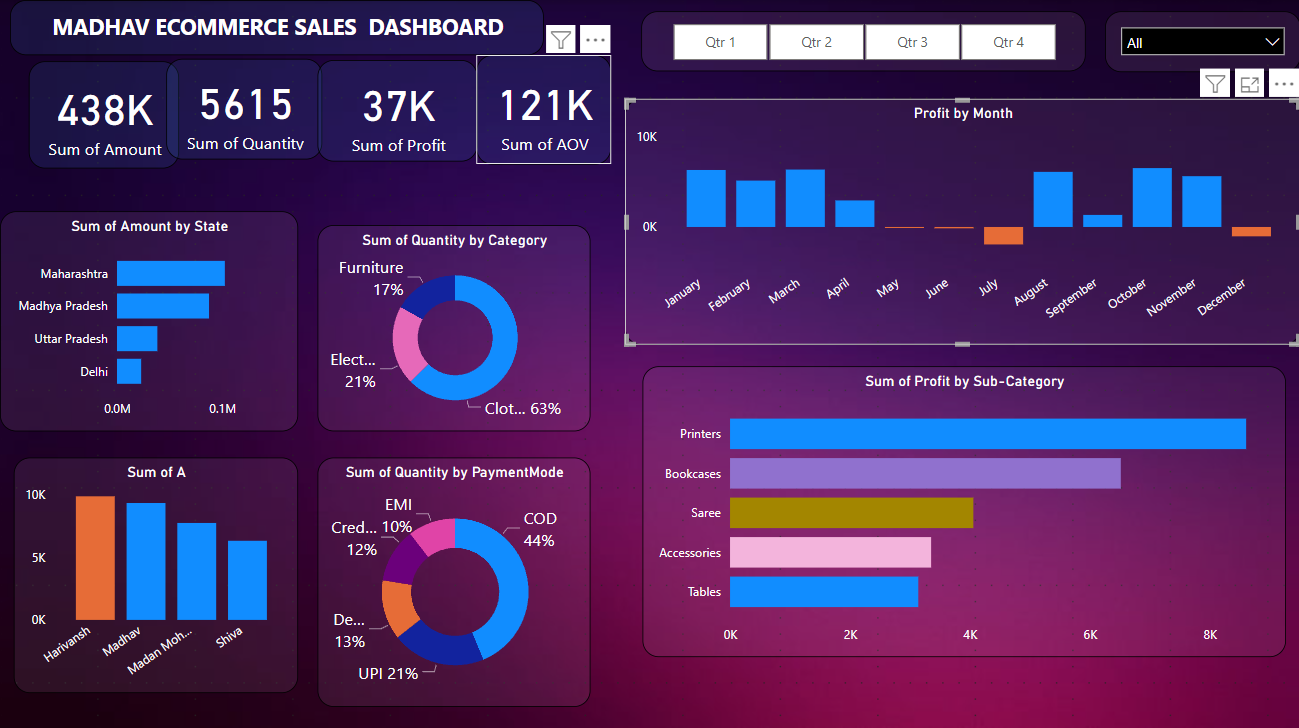

The page's visual inventory and layout, read from the dashboard file:
{"tool":"powerbi","page":{"name":"Dashboard","canvas":[1280,720],"ordinal":0},"visuals":[{"type":"textbox","box":[9.6,0,525.8,54.3],"z":0},{"type":"columnChart","title":"Profit by Month","fields":{"Y":["Details.Profit"],"Category":["Orders.Order Date.Variation.Date Hierarchy.Month"]},"box":[615.6,97.3,665,242.7],"z":1000},{"type":"barChart","fields":{"Y":["Details.Profit"],"Category":["Details.Sub-Category"]},"box":[632.1,360.6,633.4,286.5],"z":2000},{"type":"donutChart","fields":{"Category":["Details.Category"],"Y":["Details.Quantity"]},"box":[312.6,222.1,268.7,202.9],"z":3000},{"type":"donutChart","fields":{"Y":["Details.Quantity"],"Category":["Details.PaymentMode"]},"box":[312.6,451.1,268.7,245.4],"z":4000},{"type":"card","fields":{"Values":["Details.Amount"]},"box":[28.8,60.6,148.1,105.3],"z":5000},{"type":"card","fields":{"Values":["Details.Quantity"]},"box":[163.2,57.3,153.6,99],"z":6000},{"type":"card","fields":{"Values":["Details.Profit"]},"box":[312.6,58.7,157.7,100.4],"z":7000},{"type":"card","fields":{"Values":["Details.AOV"]},"box":[468.9,53.7,133,108],"z":8000},{"type":"barChart","fields":{"Y":["Details.Amount"],"Category":["Orders.State"]},"box":[0,208.4,293.4,216.6],"z":9000},{"type":"columnChart","title":"Sum of Amount by Customer Name","fields":{"Y":["Details.Amount"],"Category":["Orders.CustomerName"]},"box":[13.7,451.1,279.7,231.7],"z":10000},{"type":"slicer","fields":{"Values":["Orders.Order Date.Variation.Date Hierarchy.Quarter"]},"box":[632,10.9,437.8,59.1],"z":11000},{"type":"slicer","fields":{"Values":["Orders.State"]},"box":[1087.8,10.9,193,60],"z":12000}]}

Visuals, with their boxes in screenshot pixels (x1, y1, x2, y2), scaled from the page's 1280x720 canvas onto the 1299x728 screenshot:
textbox: bbox=(10, 0, 543, 55)
"Profit by Month" columnChart: bbox=(625, 98, 1298, 344)
barChart - Details.Profit x Details.Sub-Category: bbox=(641, 365, 1284, 654)
donutChart - Details.Category x Details.Quantity: bbox=(317, 225, 590, 430)
donutChart - Details.Quantity x Details.PaymentMode: bbox=(317, 456, 590, 704)
card - Details.Amount: bbox=(29, 61, 180, 168)
card - Details.Quantity: bbox=(166, 58, 322, 158)
card - Details.Profit: bbox=(317, 59, 477, 161)
card - Details.AOV: bbox=(476, 54, 611, 163)
barChart - Details.Amount x Orders.State: bbox=(0, 211, 298, 430)
"Sum of Amount by Customer Name" columnChart: bbox=(14, 456, 298, 690)
slicer - Orders.Order Date.Variation.Date Hierarchy.Quarter: bbox=(641, 11, 1086, 71)
slicer - Orders.State: bbox=(1104, 11, 1298, 72)
